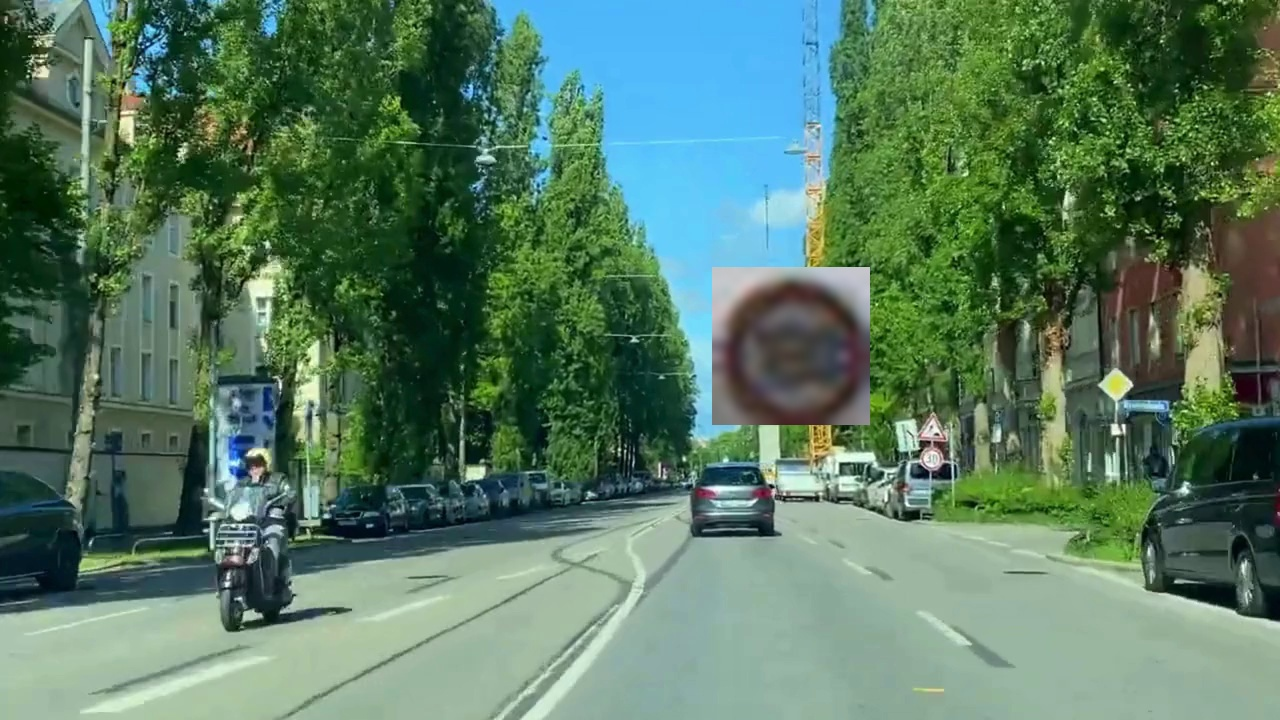Speed 100: (712, 267, 870, 425)
